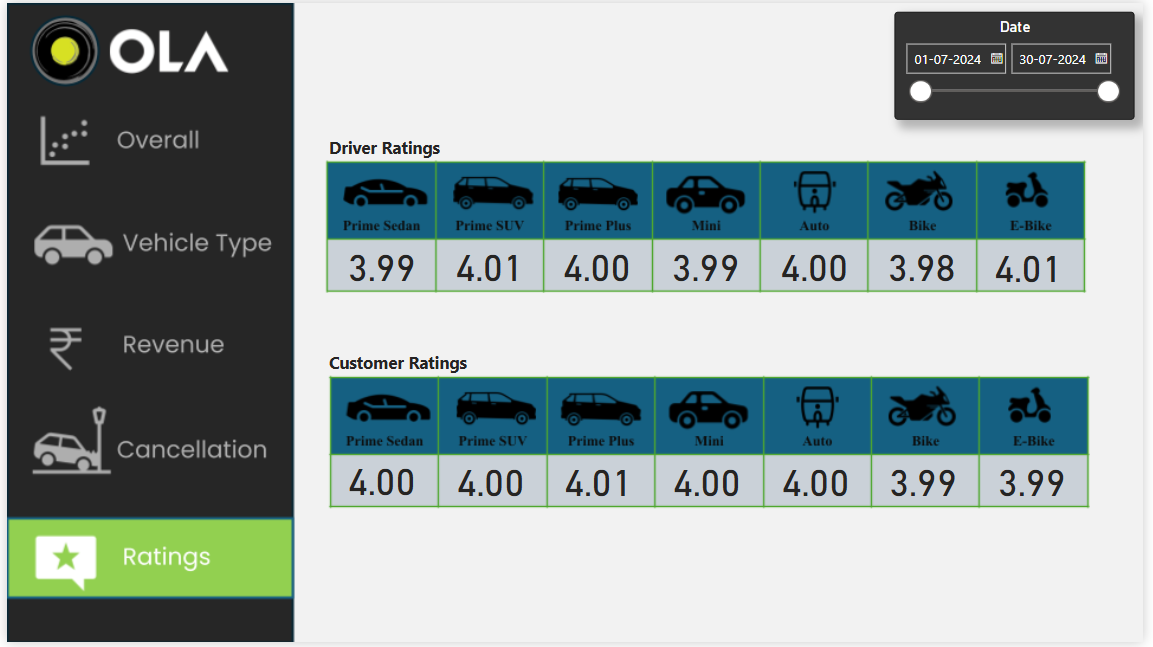

The page's visual inventory and layout, read from the dashboard file:
{"tool":"powerbi","page":{"name":"ratings","canvas":[1280,720],"ordinal":4},"visuals":[{"type":"actionButton","box":[0,238.6,320,67.1],"z":0},{"type":"actionButton","box":[0,360,320,68.6],"z":1000},{"type":"actionButton","box":[0,470,320,67.1],"z":2000},{"type":"actionButton","box":[0,124.3,320,67.1],"z":3000},{"type":"card","fields":{"Values":["Avg(July.Driver_Ratings)"]},"box":[367.1,262.9,110,61.4],"z":3001},{"type":"card","fields":{"Values":["Avg(July.Driver_Ratings)"]},"box":[488.6,262.9,110,61.4],"z":3002},{"type":"card","fields":{"Values":["Avg(July.Driver_Ratings)"]},"box":[610,262.9,110,61.4],"z":3003},{"type":"card","fields":{"Values":["Avg(July.Driver_Ratings)"]},"box":[732.9,262.9,110,61.4],"z":3004},{"type":"card","fields":{"Values":["Avg(July.Driver_Ratings)"]},"box":[854.3,262.9,110,61.4],"z":3005},{"type":"card","fields":{"Values":["Avg(July.Driver_Ratings)"]},"box":[975.7,262.9,110,61.4],"z":3006},{"type":"card","fields":{"Values":["Avg(July.Driver_Ratings)"]},"box":[1095.7,264.3,110,61.4],"z":3007},{"type":"card","fields":{"Values":["Avg(July.Customer_Rating)"]},"box":[367.1,504.3,110,61.4],"z":3008},{"type":"card","fields":{"Values":["Avg(July.Customer_Rating)"]},"box":[490,505.7,110,61.4],"z":3009},{"type":"card","fields":{"Values":["Avg(July.Customer_Rating)"]},"box":[611.4,505.7,110,61.4],"z":3010},{"type":"card","fields":{"Values":["Avg(July.Customer_Rating)"]},"box":[734.3,505.7,110,61.4],"z":3011},{"type":"card","fields":{"Values":["Avg(July.Customer_Rating)"]},"box":[855.7,505.7,110,61.4],"z":3012},{"type":"card","fields":{"Values":["Avg(July.Customer_Rating)"]},"box":[977.1,505.7,110,61.4],"z":3013},{"type":"card","fields":{"Values":["Avg(July.Customer_Rating)"]},"box":[1100,505.7,110,61.4],"z":3014},{"type":"slicer","title":"Date","fields":{"Values":["July.Date"]},"box":[1000,10,270,121.4],"z":3015},{"type":"textbox","box":[357.1,145.7,150,38.6],"z":3016},{"type":"textbox","box":[357.1,387.1,187.1,38.6],"z":3017}]}

Visuals, with their boxes in screenshot pixels (x1, y1, x2, y2), scaled from the page's 1280x720 canvas onto the 1153x647 screenshot:
actionButton: x1=0 y1=214 x2=288 y2=275
actionButton: x1=0 y1=324 x2=288 y2=385
actionButton: x1=0 y1=422 x2=288 y2=483
actionButton: x1=0 y1=112 x2=288 y2=172
card - Avg(July.Driver_Ratings): x1=331 y1=236 x2=430 y2=291
card - Avg(July.Driver_Ratings): x1=440 y1=236 x2=539 y2=291
card - Avg(July.Driver_Ratings): x1=549 y1=236 x2=649 y2=291
card - Avg(July.Driver_Ratings): x1=660 y1=236 x2=759 y2=291
card - Avg(July.Driver_Ratings): x1=770 y1=236 x2=869 y2=291
card - Avg(July.Driver_Ratings): x1=879 y1=236 x2=978 y2=291
card - Avg(July.Driver_Ratings): x1=987 y1=238 x2=1086 y2=293
card - Avg(July.Customer_Rating): x1=331 y1=453 x2=430 y2=508
card - Avg(July.Customer_Rating): x1=441 y1=454 x2=540 y2=510
card - Avg(July.Customer_Rating): x1=551 y1=454 x2=650 y2=510
card - Avg(July.Customer_Rating): x1=661 y1=454 x2=761 y2=510
card - Avg(July.Customer_Rating): x1=771 y1=454 x2=870 y2=510
card - Avg(July.Customer_Rating): x1=880 y1=454 x2=979 y2=510
card - Avg(July.Customer_Rating): x1=991 y1=454 x2=1090 y2=510
"Date" slicer: x1=901 y1=9 x2=1144 y2=118
textbox: x1=322 y1=131 x2=457 y2=166
textbox: x1=322 y1=348 x2=490 y2=383
